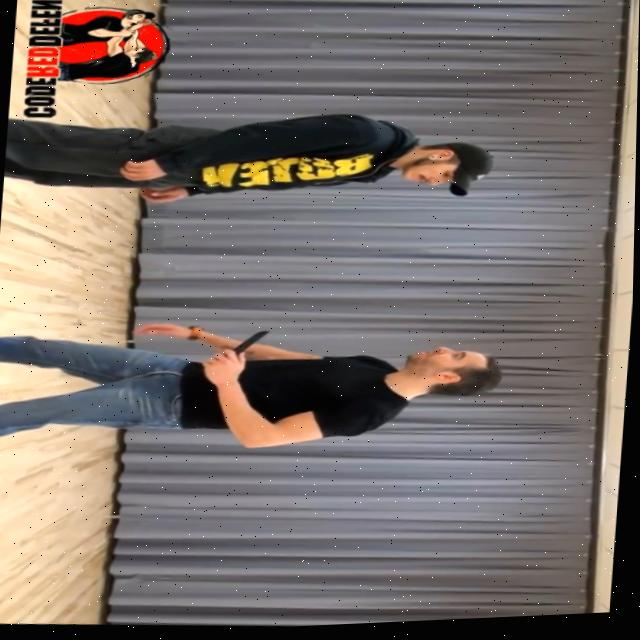knife: (232, 326, 278, 360)
